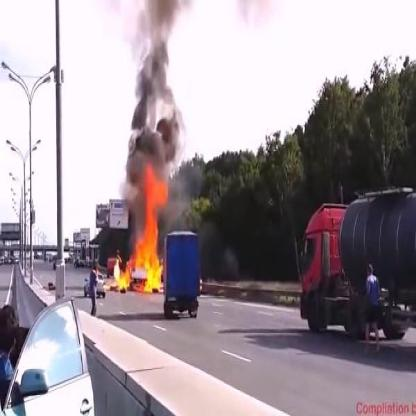fire: (110, 167, 171, 295)
